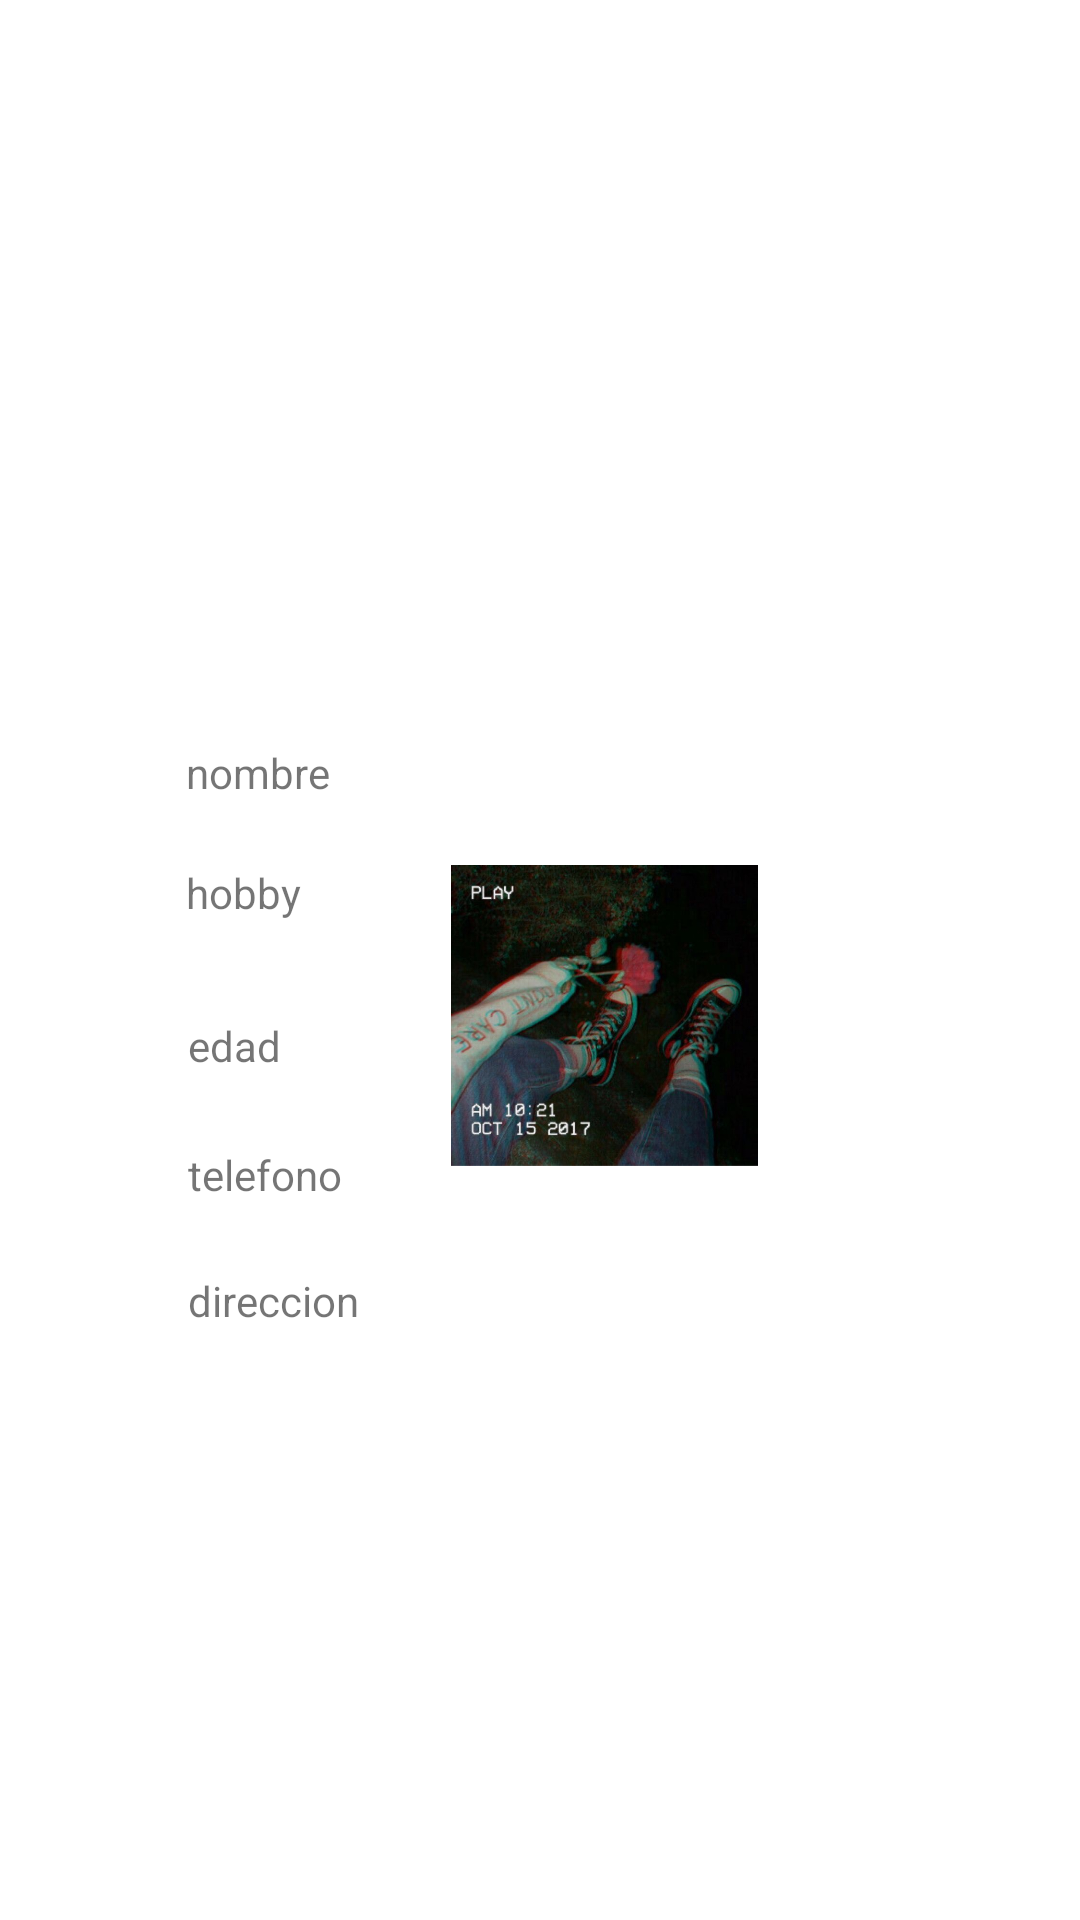

Icons on this 1080 × 1920 Android screen, each with the point to tap as (x,y):
aesth: (604,1015)
